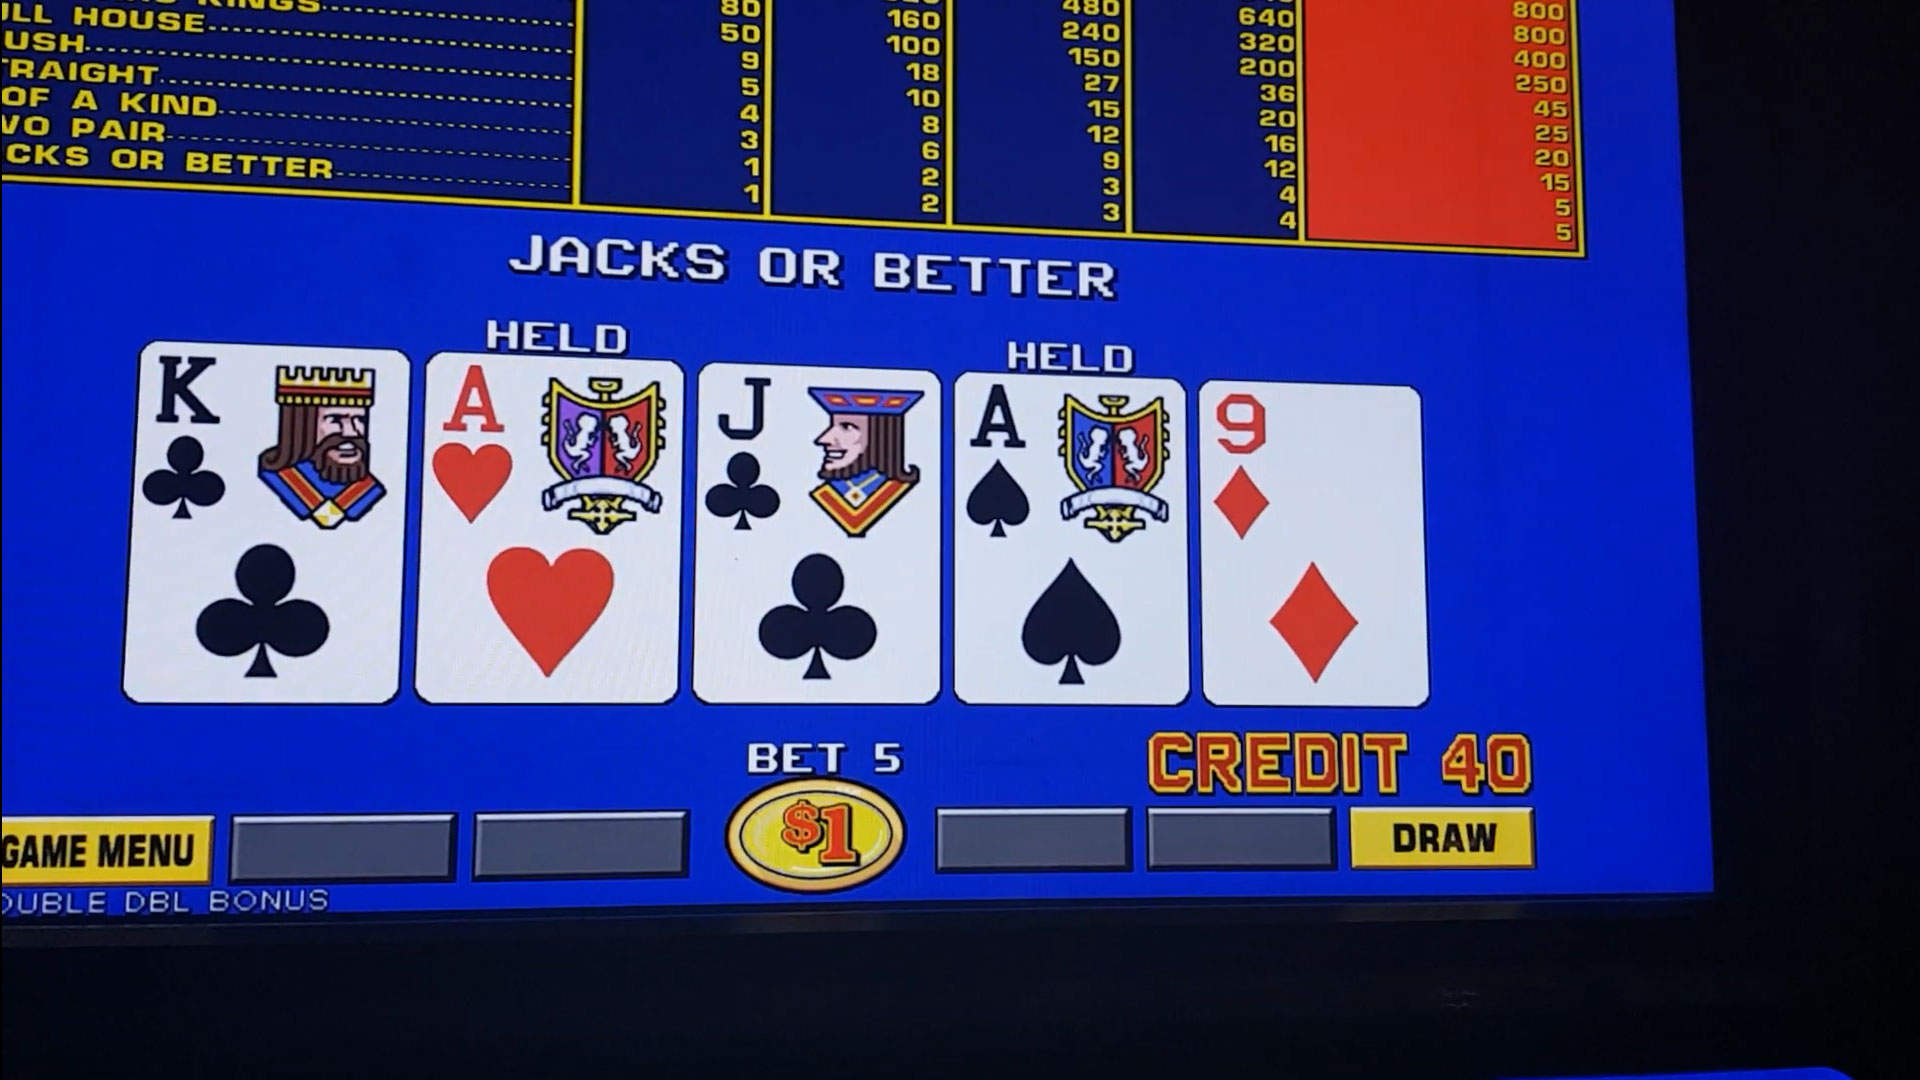CJ: (704, 375, 932, 542)
CK: (145, 349, 400, 535)
D9: (1207, 390, 1416, 550)
HA: (429, 359, 678, 539)
SA: (959, 378, 1182, 547)
